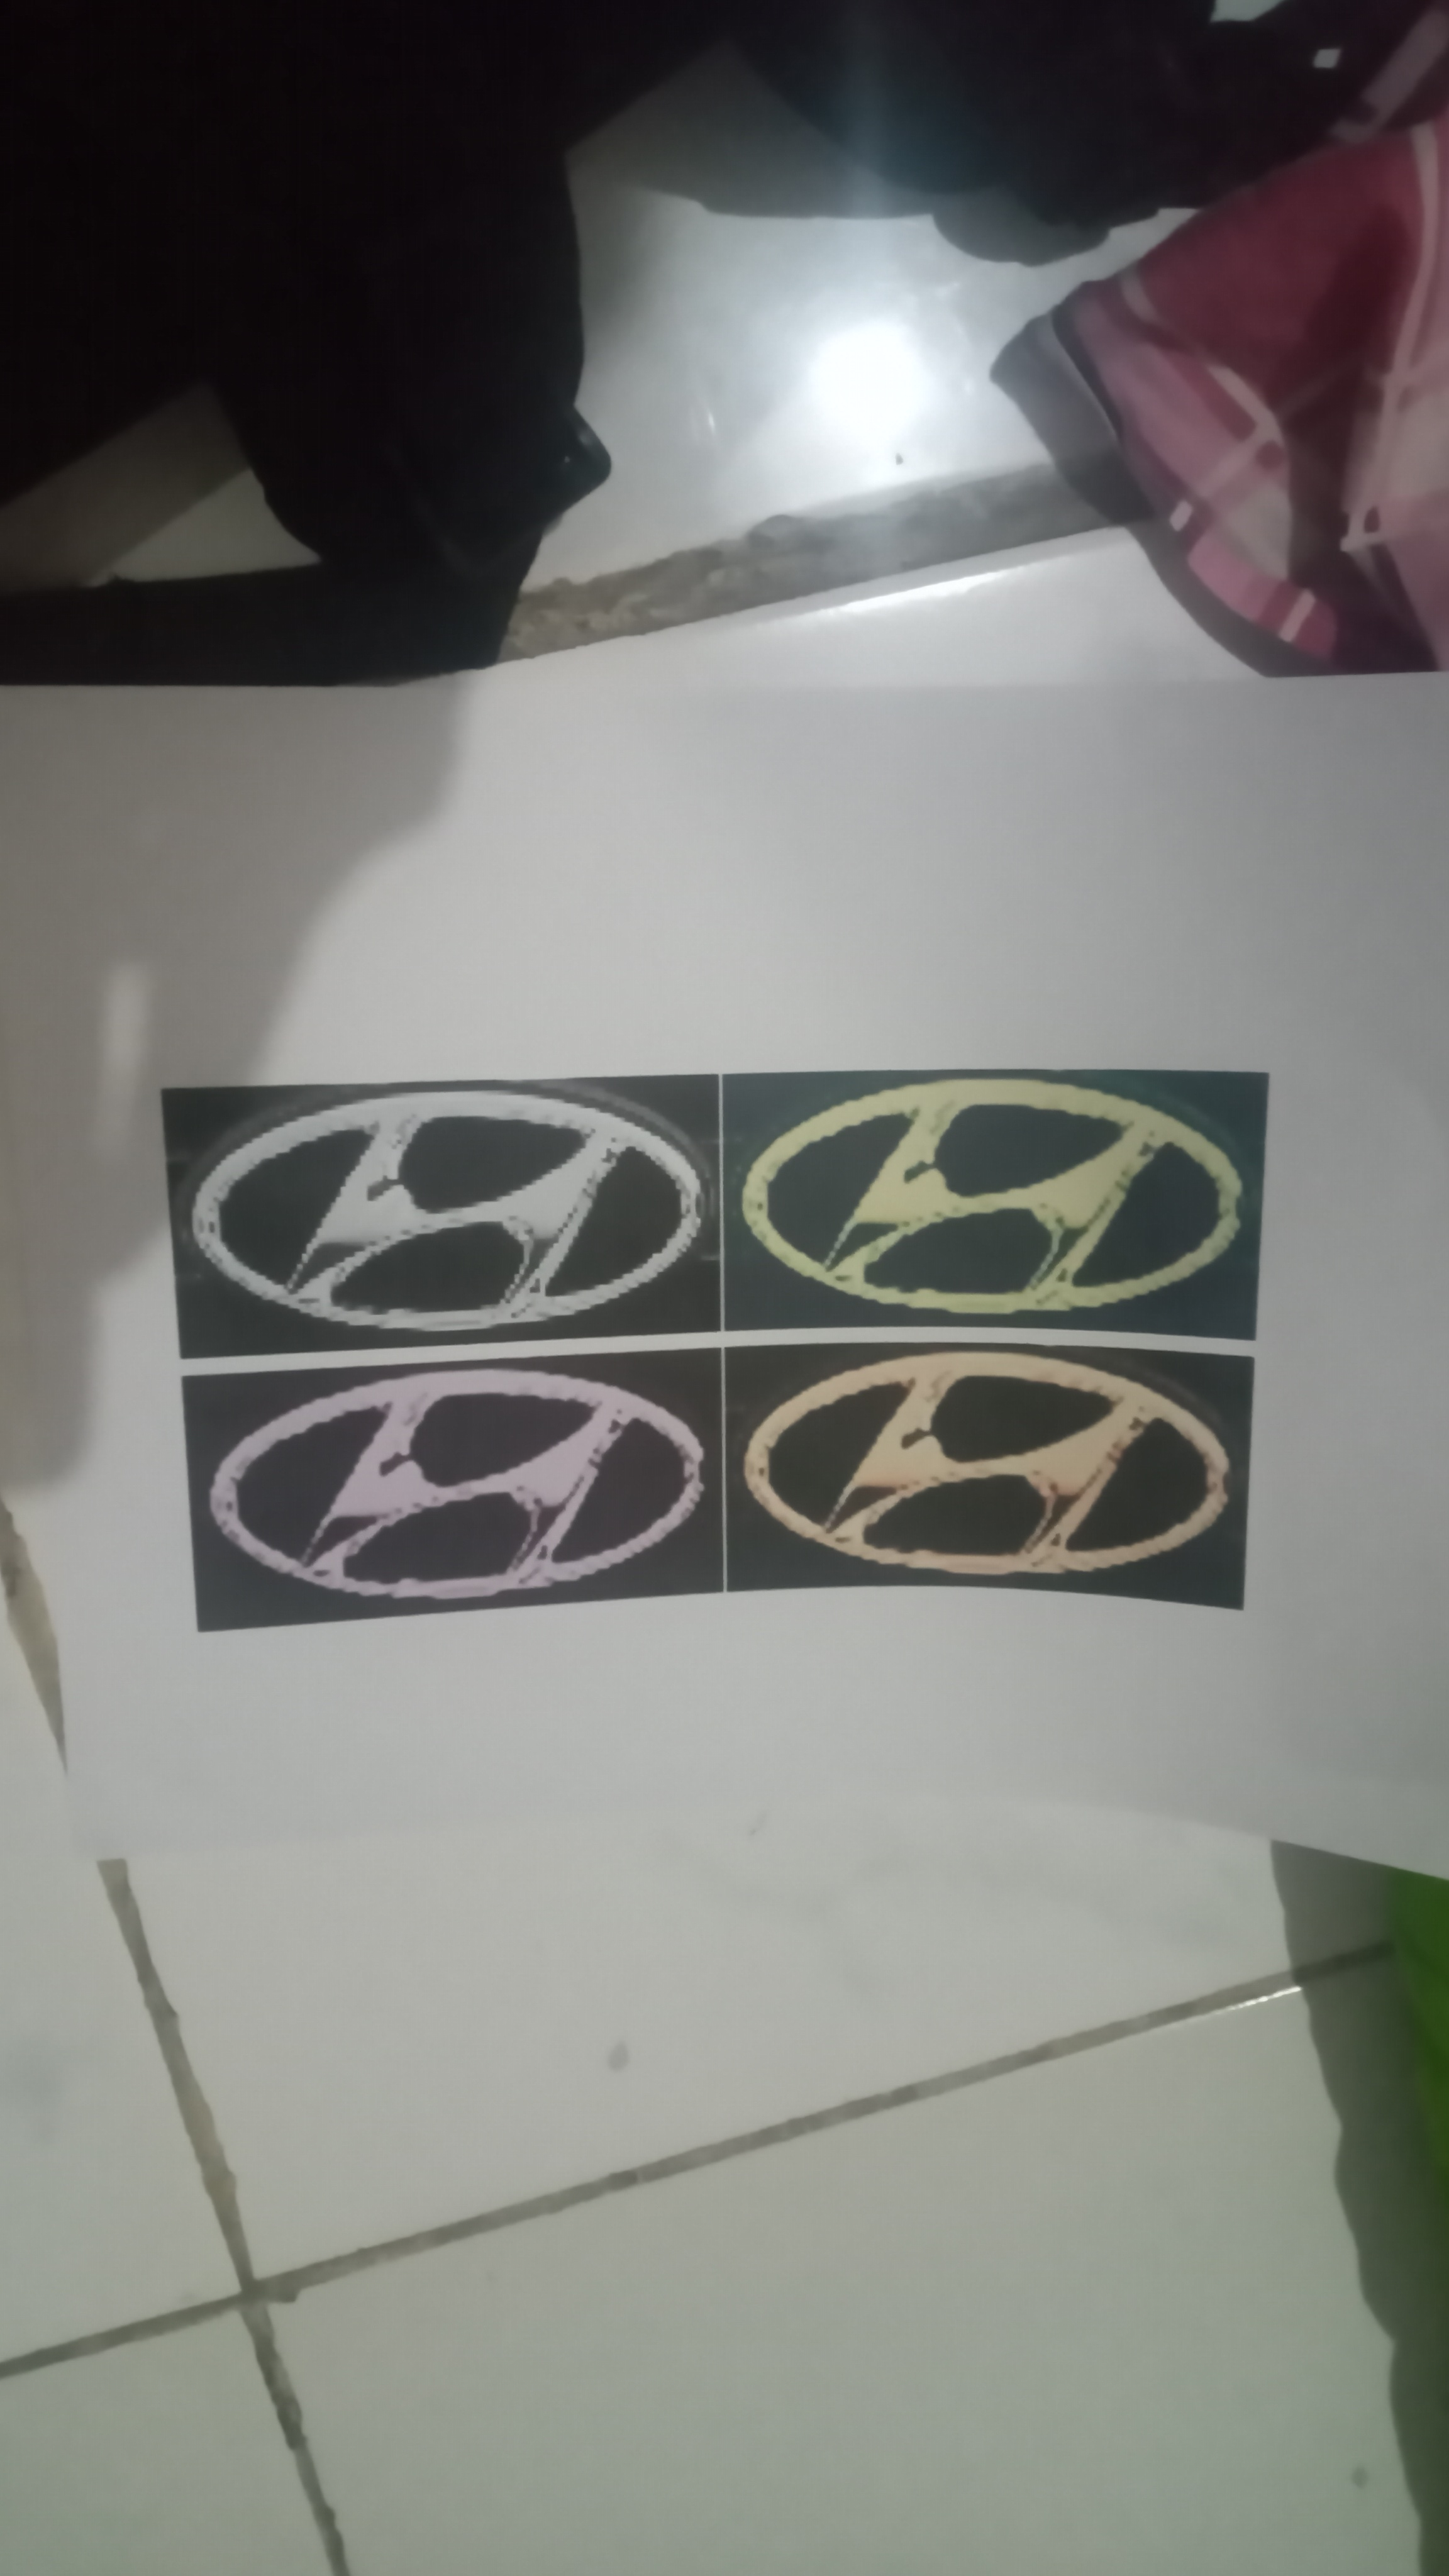Hyundai: (715, 1054, 1286, 1345), (142, 1081, 747, 1345), (170, 1366, 732, 1612), (720, 1332, 1258, 1589)
